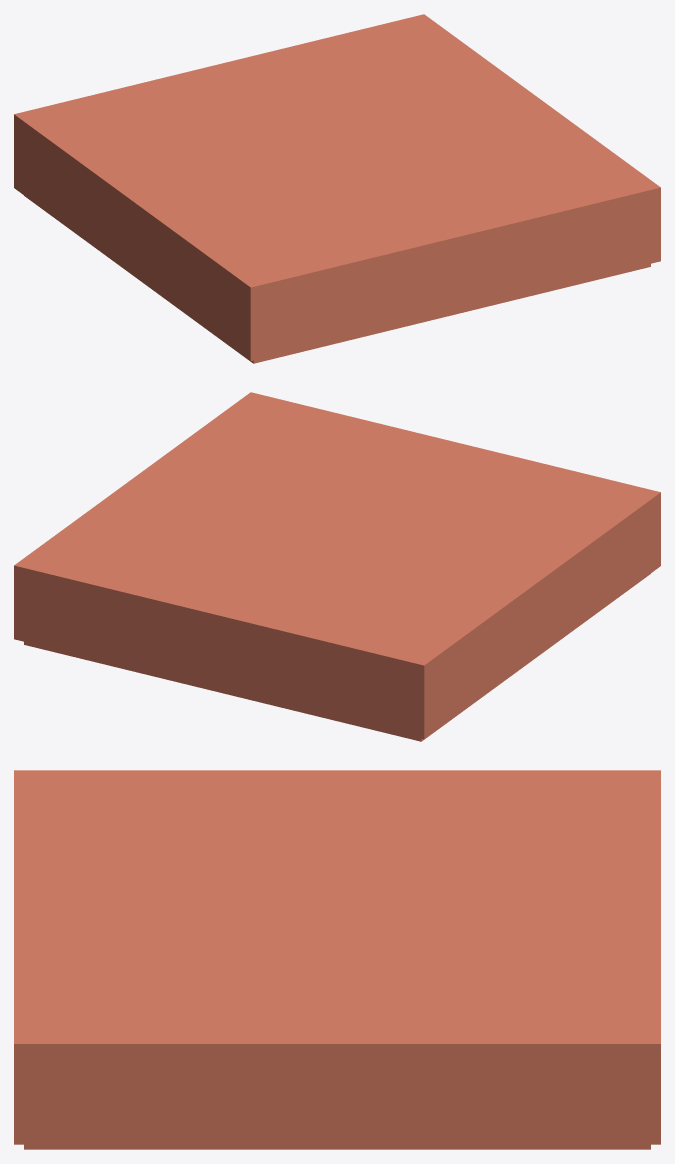
3 views of the same model, one above another, from view 1: azimuth 30°, elevation 25°; view 2: azimuth 150°, elevation 25°; view 3: azimuth 270°, elevation 25° (orthographic). The views are drawn at different scales.
Visible parts, largest first — view 1: [pivoted].001; view 2: [pivoted].001; view 3: [pivoted].001.
Boxes of the visible parts, <box> form: [pivoted].001: <box>14,14,660,363</box>; [pivoted].001: <box>14,392,660,741</box>; [pivoted].001: <box>14,770,660,1149</box>.
Size of the model in its own units: 1.6 by 0.3 by 1.6.
